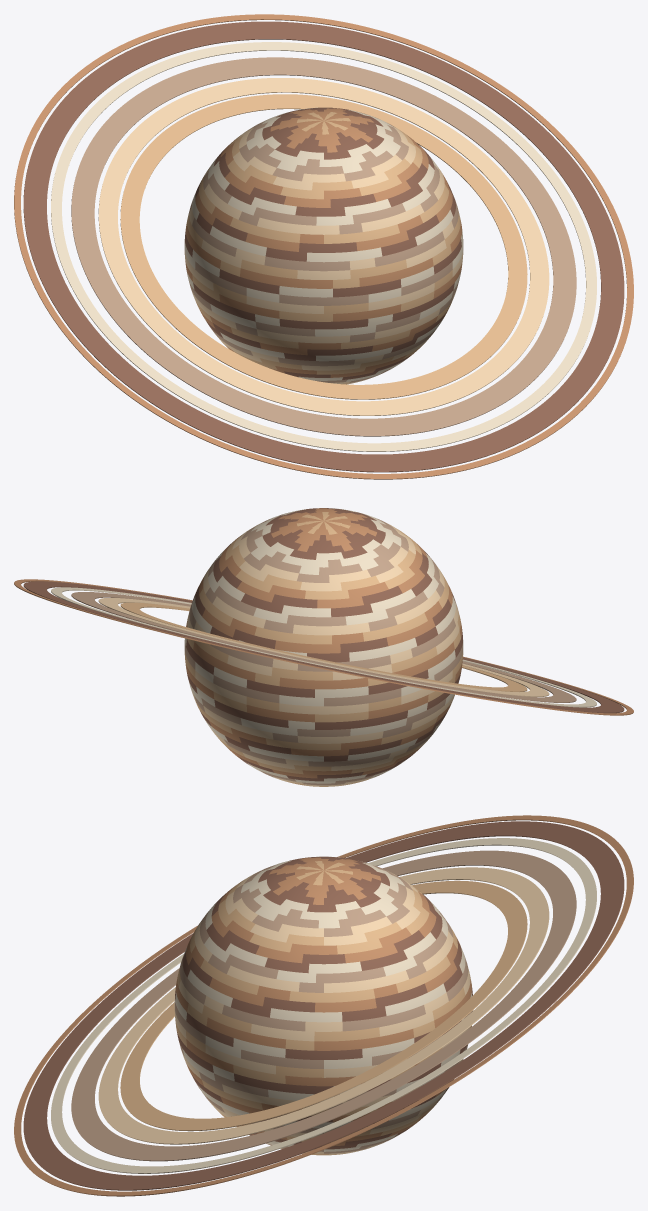
Rendered from eraztun_giant.glb.
3 views of the same model, one above another, from view 1: azimuth 30°, elevation 25°; view 2: azimuth 150°, elevation 25°; view 3: azimuth 270°, elevation 25° (orthographic). The views are drawn at different scales.
Visible parts, largest first — view 1: Ring_plane_mesh, Banded_cloud_deck; view 2: Banded_cloud_deck, Ring_plane_mesh; view 3: Ring_plane_mesh, Banded_cloud_deck.
Part boxes in pixels (left/top/right/bottom): Ring_plane_mesh: left=14, top=14, right=633, bottom=479; Banded_cloud_deck: left=184, top=107, right=463, bottom=384; Banded_cloud_deck: left=184, top=508, right=463, bottom=786; Ring_plane_mesh: left=14, top=579, right=633, bottom=715; Ring_plane_mesh: left=14, top=815, right=633, bottom=1196; Banded_cloud_deck: left=174, top=856, right=473, bottom=1155.
Size of the model in its own units: 4.54 by 2 by 4.15.
